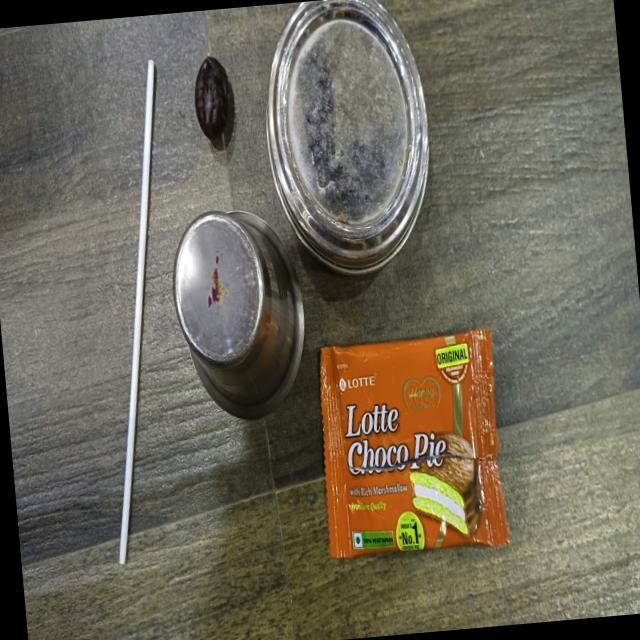Date-Bio: (188, 52, 238, 149)
Plastic-NonBio: (314, 322, 513, 564)
Steel-NonBio: (255, 0, 440, 290), (166, 204, 312, 428)
Straw-NonBio: (119, 51, 156, 568)
